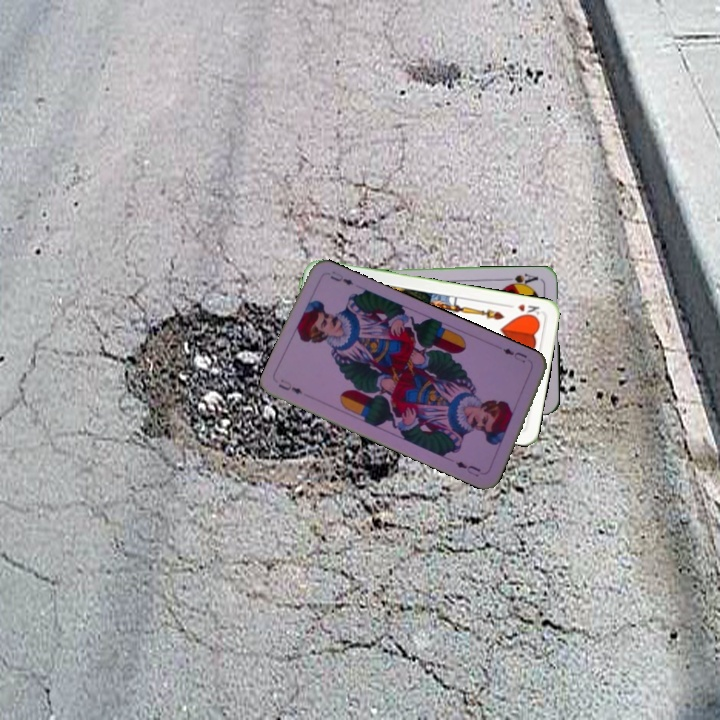EU: (274, 375, 305, 397), (499, 344, 530, 365)
HK: (514, 300, 542, 320)
SA: (502, 269, 540, 289)
